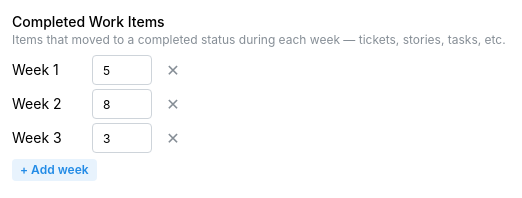
Test: WeeklyThroughputInput › removing weeks › removing a week preserves values of the remaining weeks
Note: Remove the middle week
Click the button named "remove week 2" at (173, 104), box x1=162 y1=93 x2=184 y2=115
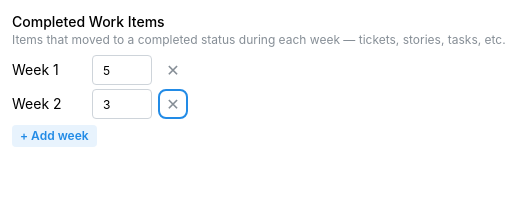
Expected: the field labelled "Week 1" holds "5", x1=92 y1=55 x2=152 y2=85
Expected: the text labelled "Week 3" is gone
